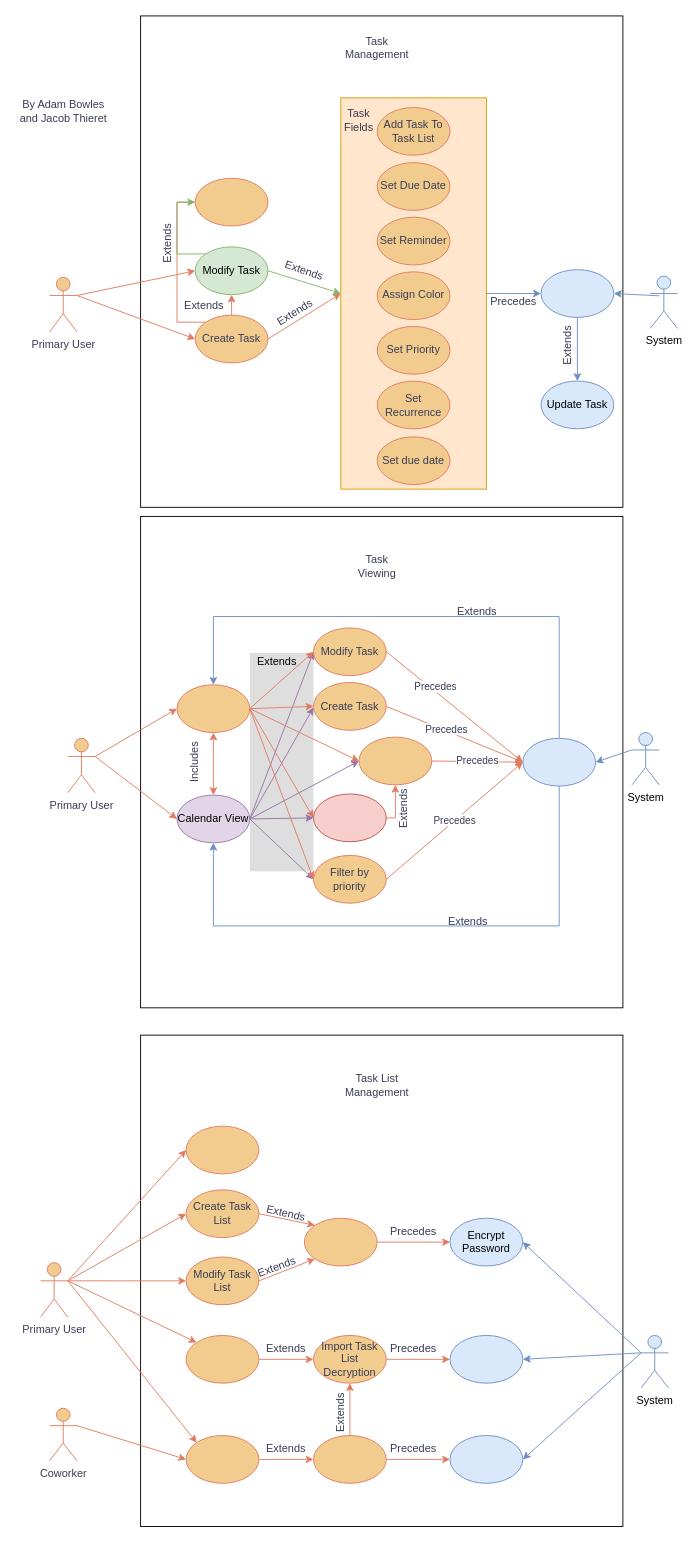
This 698x1542 diagram has some shape labels left out. Each missing label, with the centre of its shape:
"Decrypt Data" goes at [486,1359].
"Delete Task List" goes at [222,1149].
"Encrypt Data" goes at [486,1459].
"Export Task List" goes at [222,1459].
"Export Task List Encryption" goes at [349,1459].
"Filter By Task" goes at [395,760].
"Import Task List" goes at [222,1359].
"Mark as Complete" goes at [231,201].
"Task List Manager" goes at [349,817].
"Task List Password Protection" goes at [340,1241].
"Update Views" goes at [559,761].
"Validate Data" goes at [577,293].
"Weekly View" goes at [213,708].
